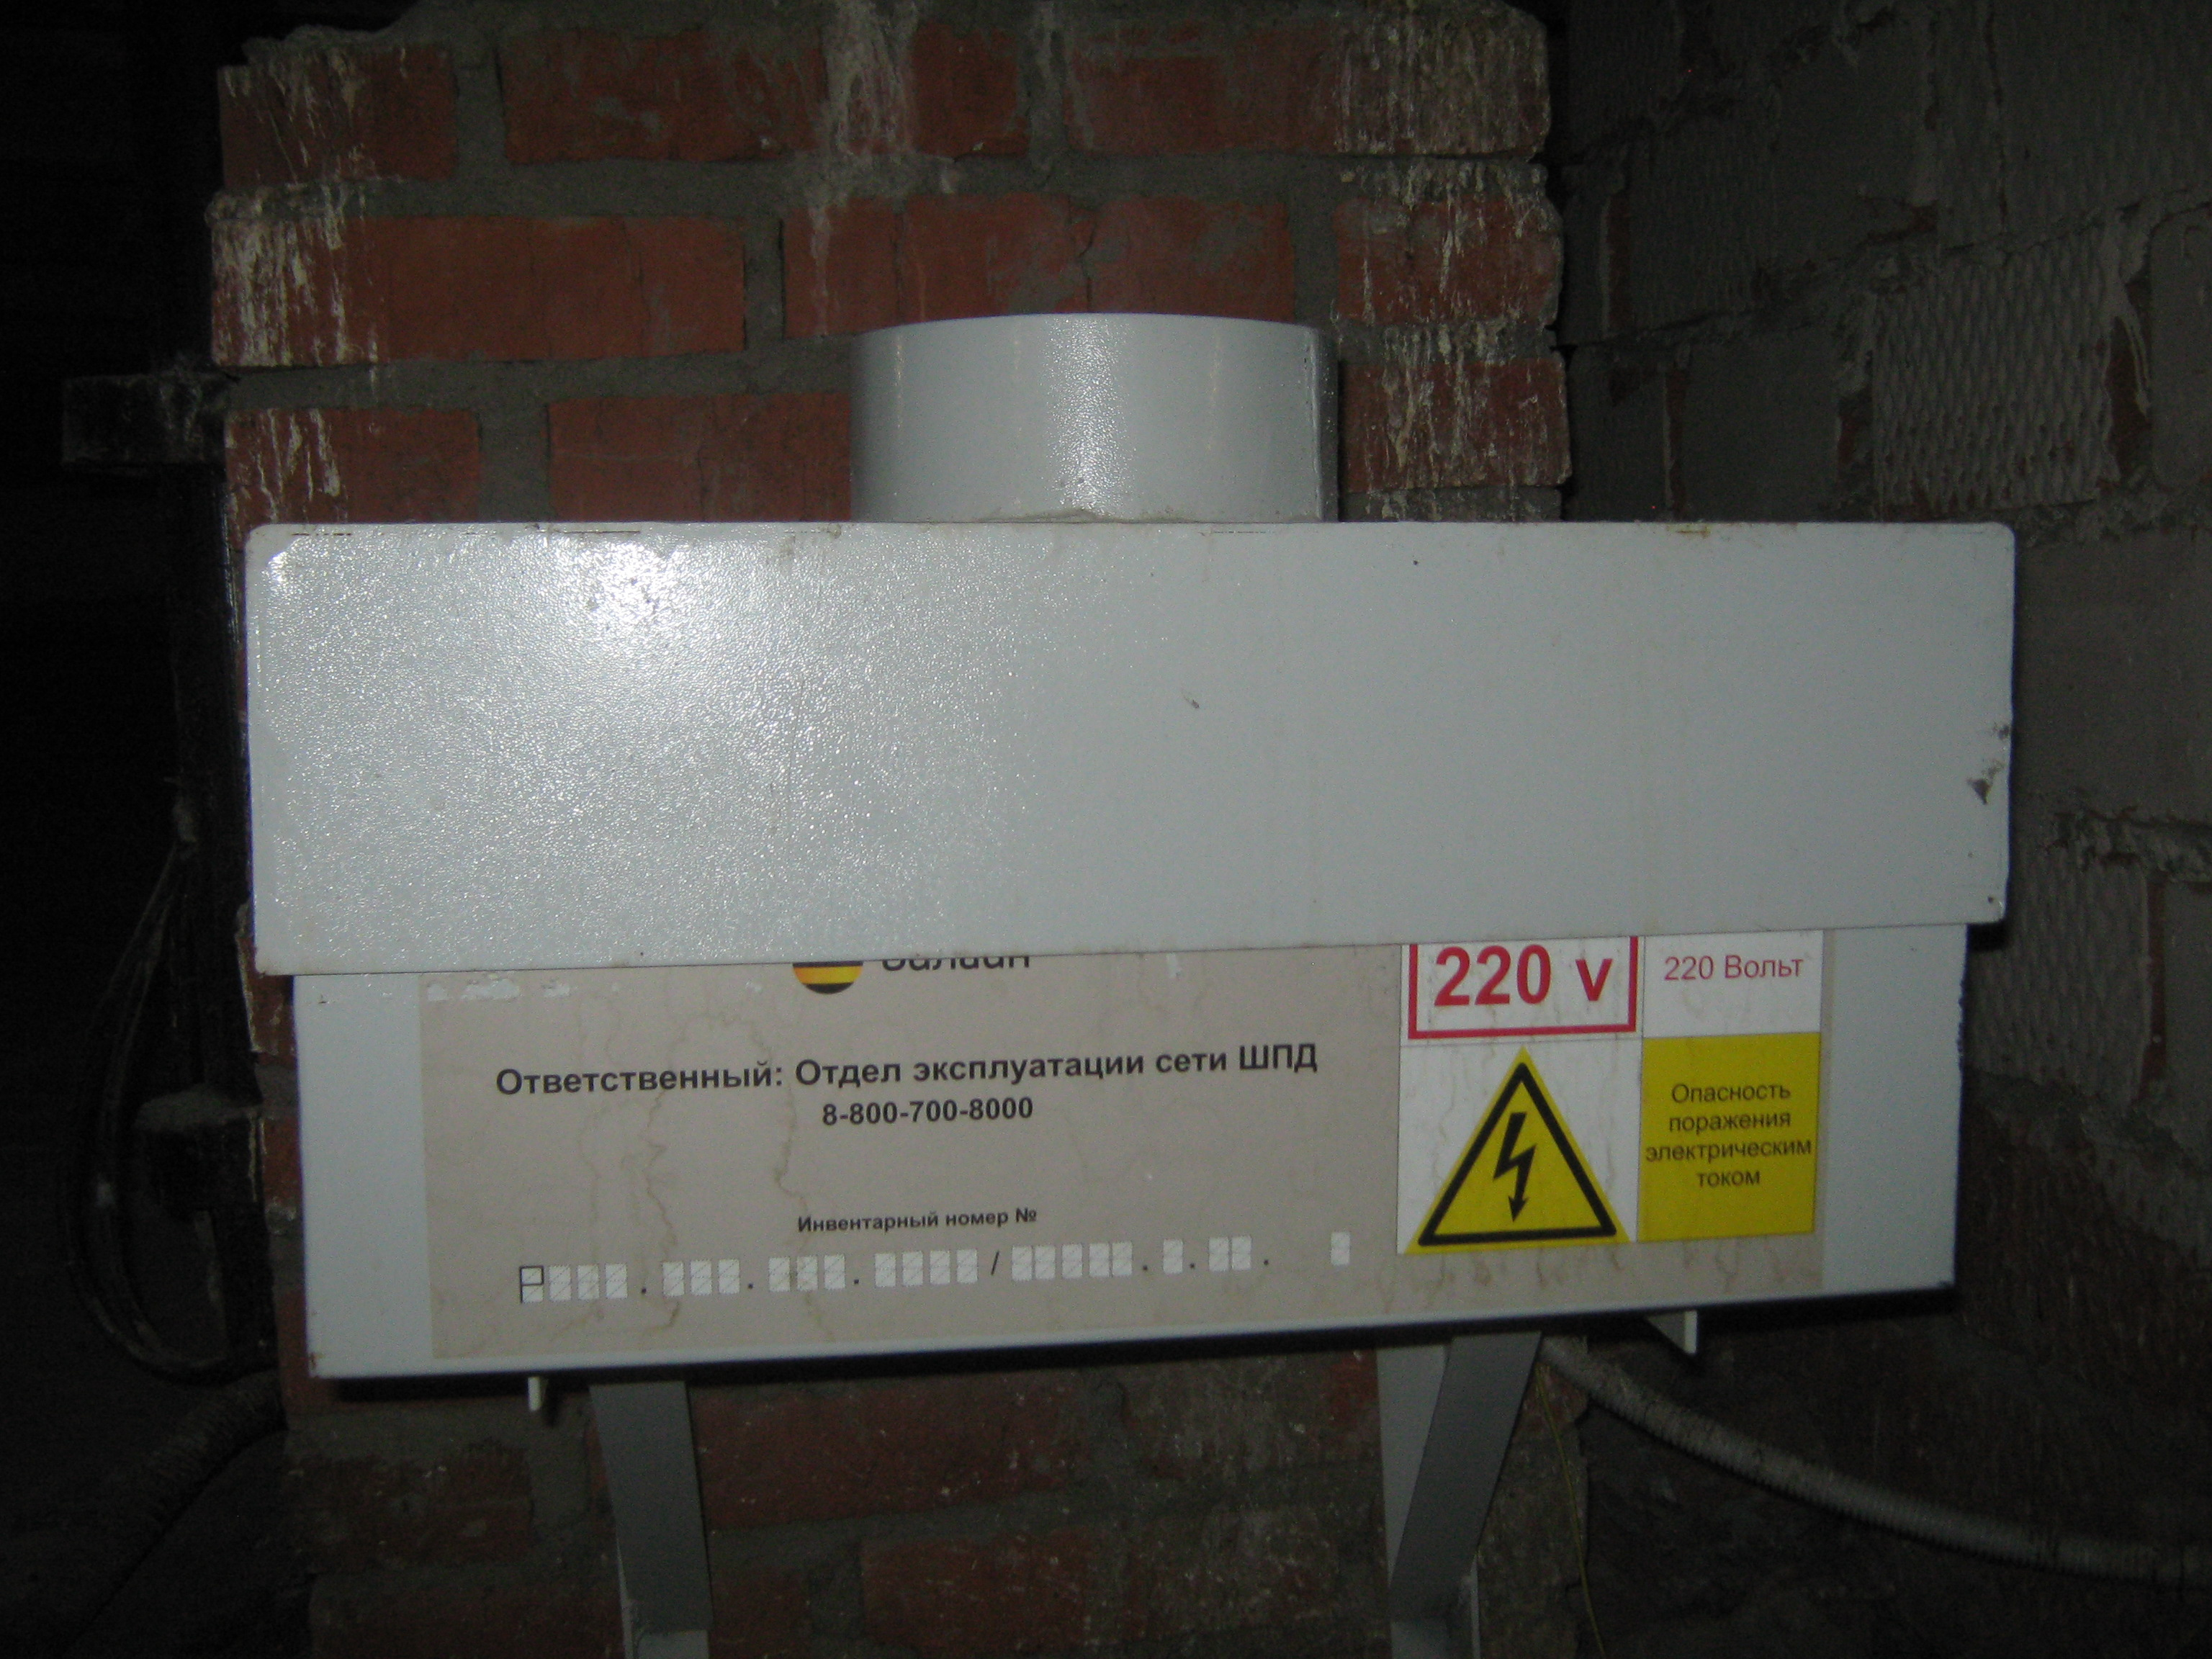shta-ps: (221, 286, 2045, 1408)
